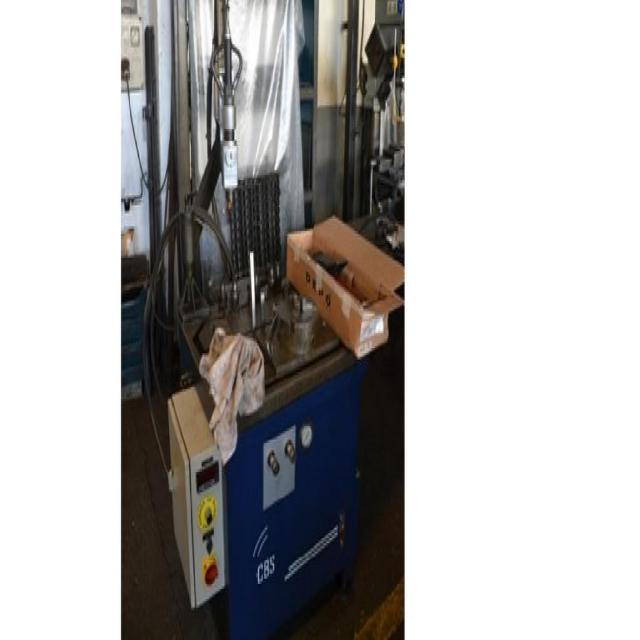table: (112, 154, 444, 616)
